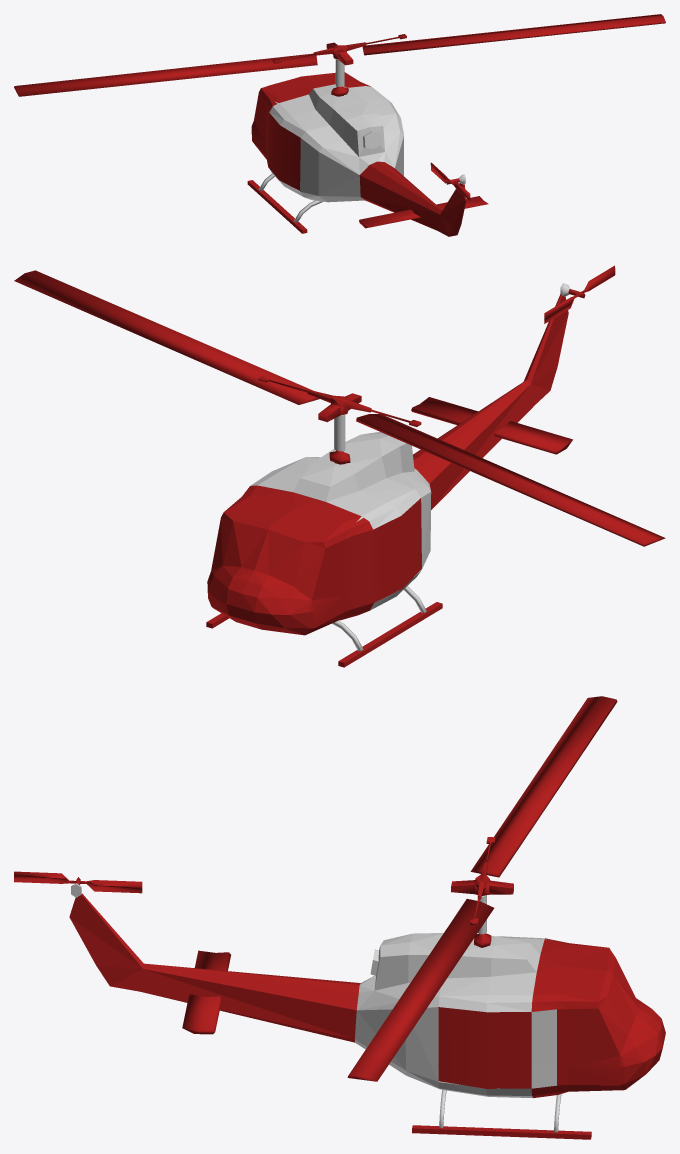
File: Helicopter_-_Low_Poly.glb
3 renders of one model, top to bottom at view 1: azimuth 30°, elevation 25°; view 2: azimuth 150°, elevation 25°; view 3: azimuth 270°, elevation 25°, orthographic. The views are drawn at different scales.
Visible parts, largest first — view 1: unnamed (×5); view 2: unnamed (×5); view 3: unnamed (×5).
Boxes of the visible parts, box(x1,y1,x2,y2) form: unnamed (×5): box(14, 14, 665, 236); unnamed (×5): box(14, 265, 665, 667); unnamed (×5): box(14, 696, 665, 1139).
Bounding box in the file's own units: 945 × 252 × 679.
